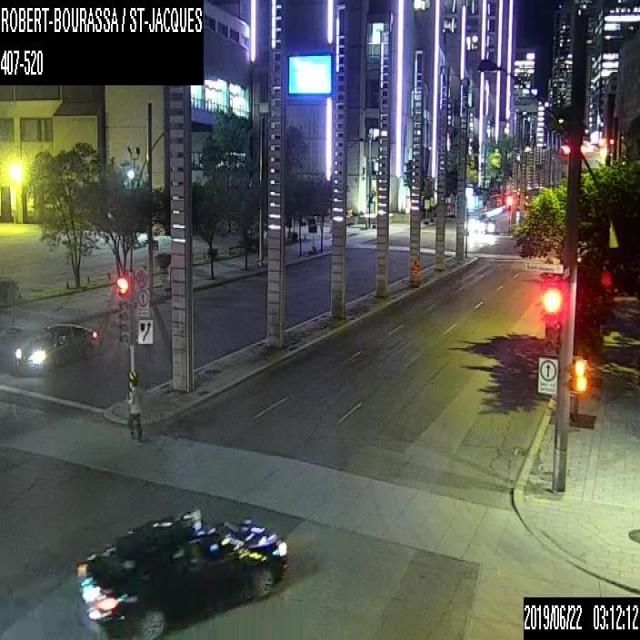construction: (409, 256, 421, 288)
vehicle: (73, 509, 289, 639), (13, 319, 97, 373)
